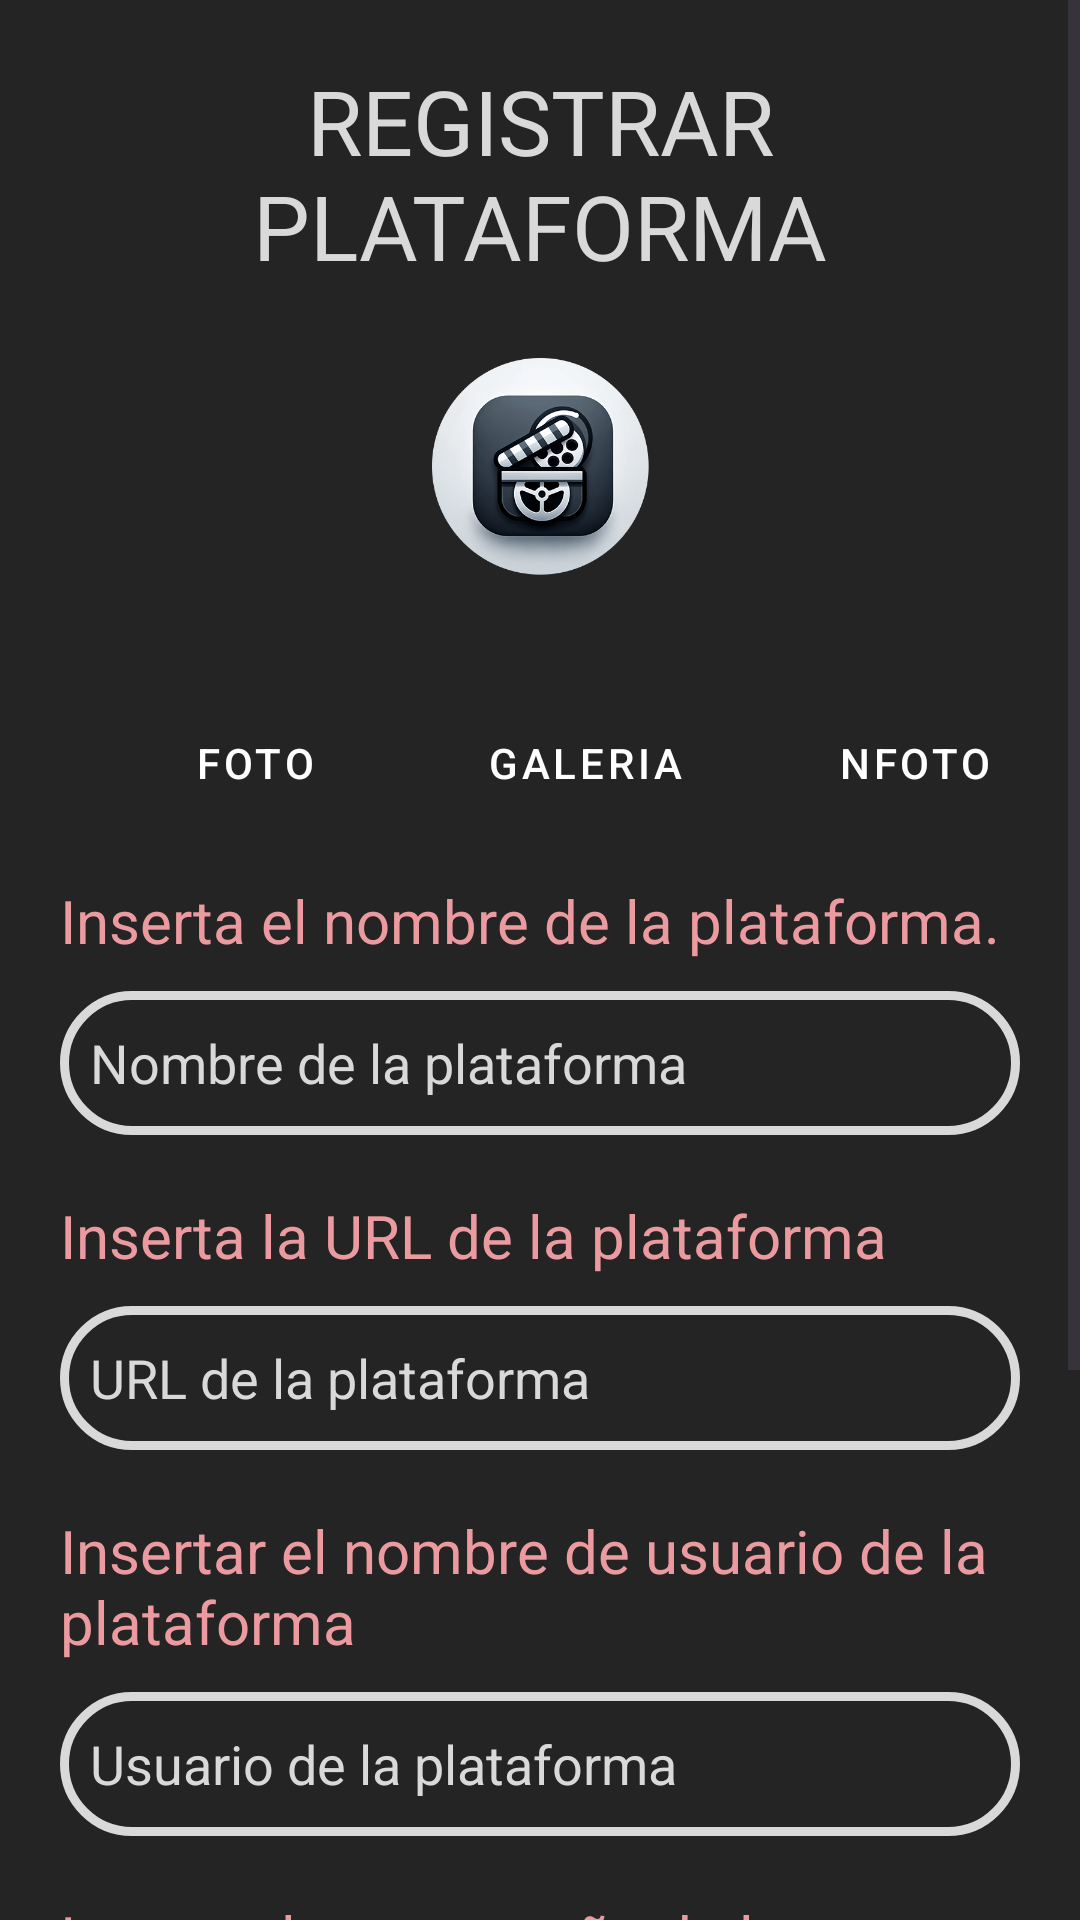

Where icons sit on this 1080*1920 app screen, as [x1=x1, y1=y1, x2=x2, y2=y2]:
Caratula de la película: [x1=432, y1=358, x2=649, y2=575]
